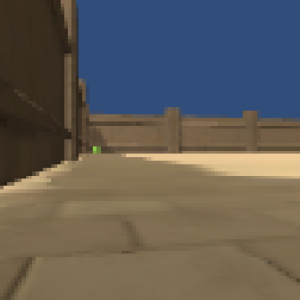goodGoal: (91, 144, 102, 156)
